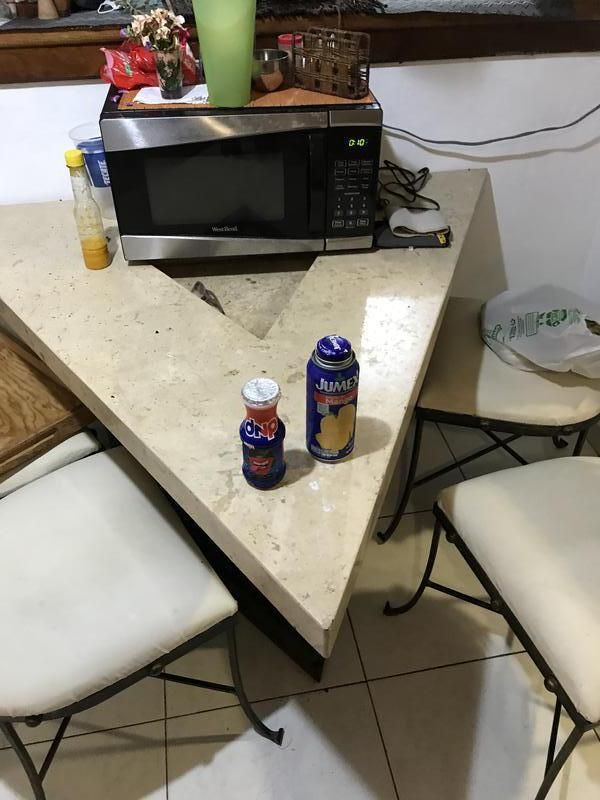danup: (240, 377, 289, 489)
jugo_jumex: (305, 334, 359, 463)
